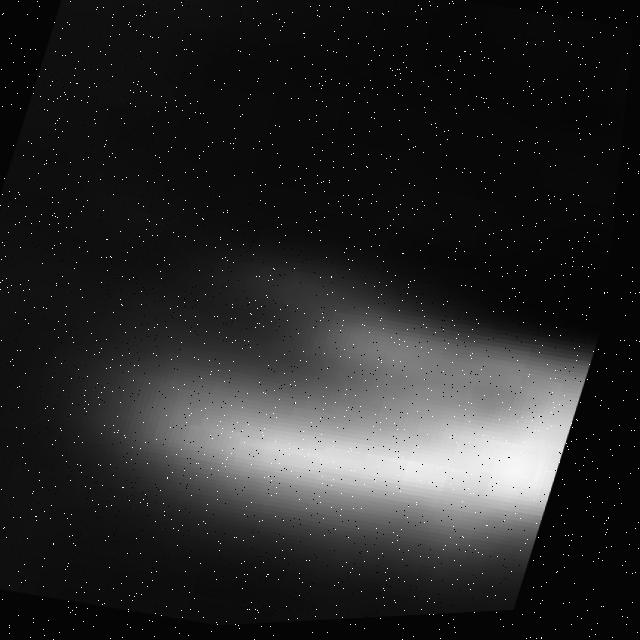person: (23, 196, 623, 605)
